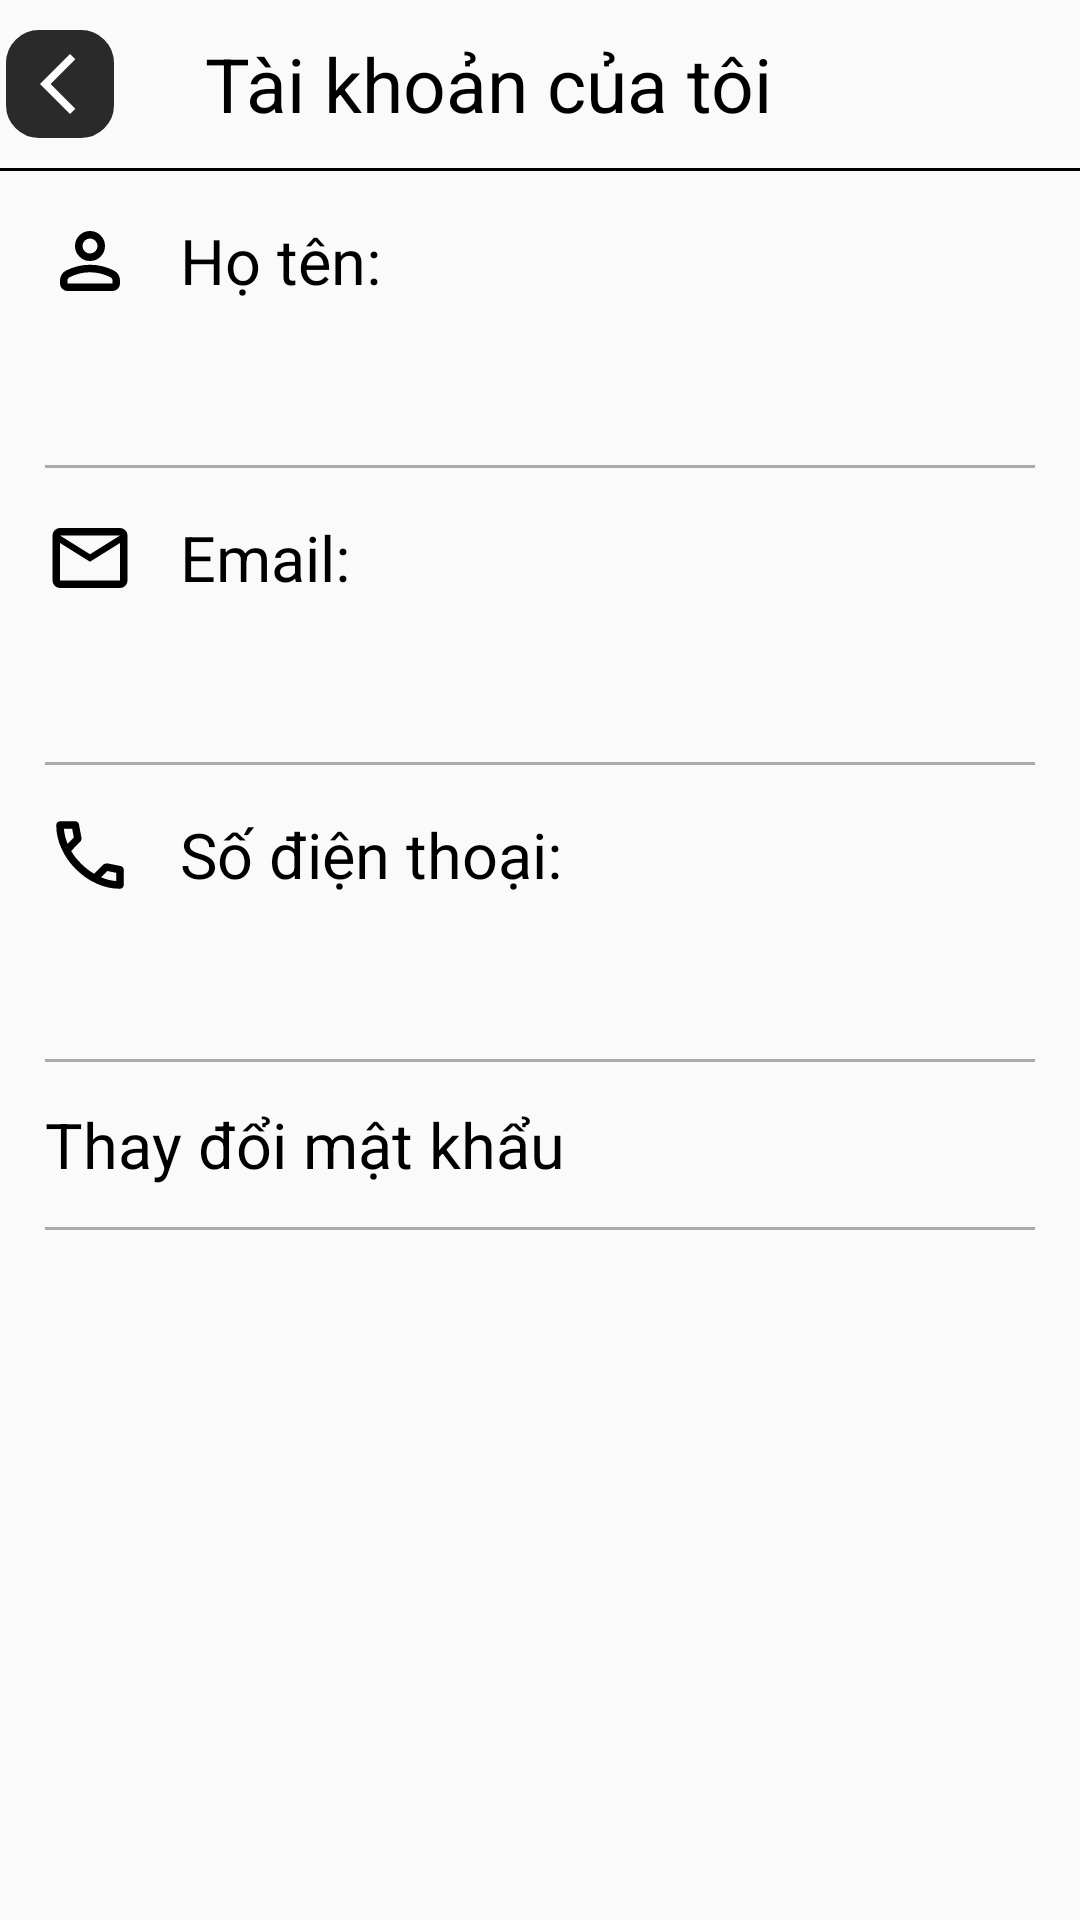

Icons on this 1080×1920 Android screen, each with its box as (x1, y1, x2, y2):
back: (40, 54, 75, 114)
call: (56, 821, 124, 889)
person: (60, 231, 120, 291)
